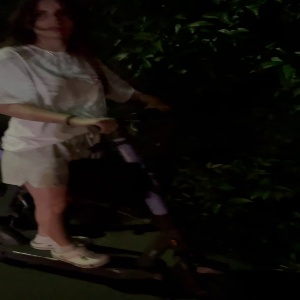human on a scooter: (1, 1, 229, 297)
